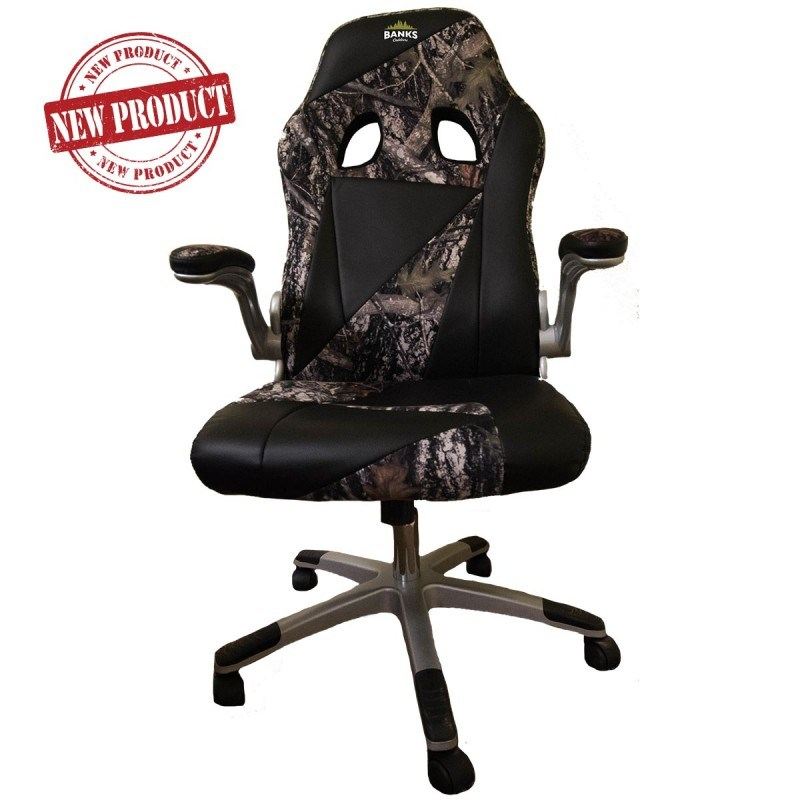chairs: (170, 7, 632, 794)
